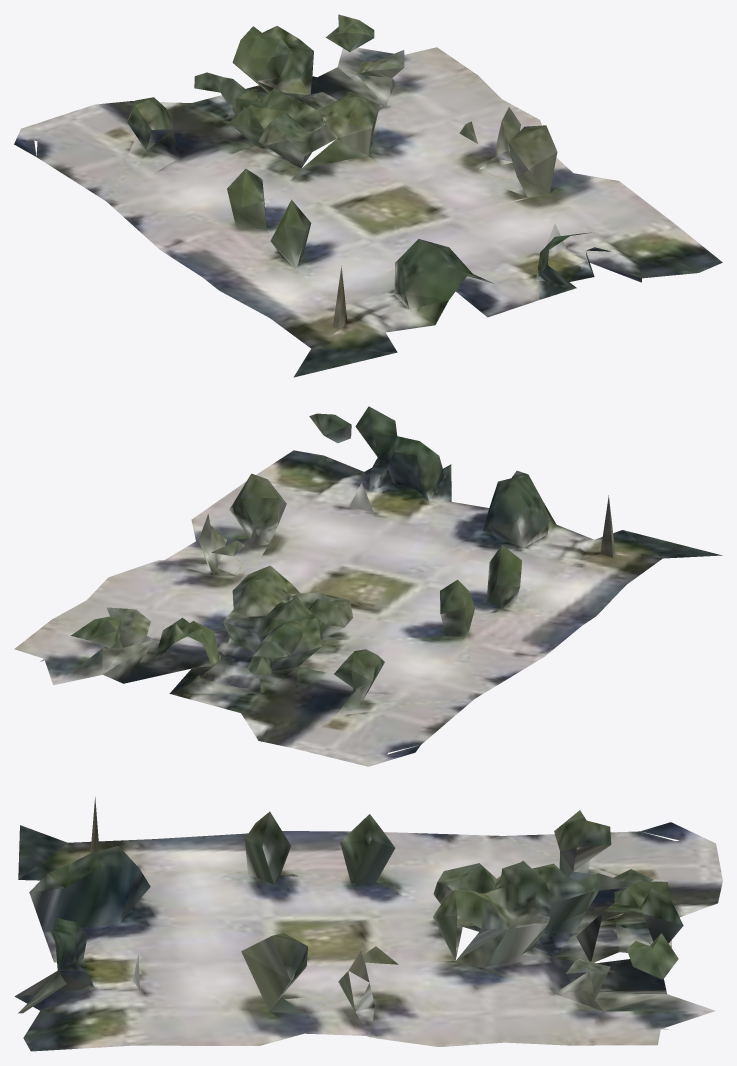
The model's file is Tile_+006_+001_L16_0.glb.
3 views of the same model, one above another, from view 1: azimuth 30°, elevation 25°; view 2: azimuth 150°, elevation 25°; view 3: azimuth 270°, elevation 25° (orthographic). The views are drawn at different scales.
Visible parts, largest first — view 1: rtc; view 2: rtc; view 3: rtc.
Part boxes in pixels (box(x1,y1,x2,y2)): rtc: box(14, 14, 722, 377); rtc: box(14, 406, 722, 766); rtc: box(14, 796, 722, 1051).
Bounding box in the file's own units: 46.82 × 8.01 × 59.93.
1 material, 1 textured.
